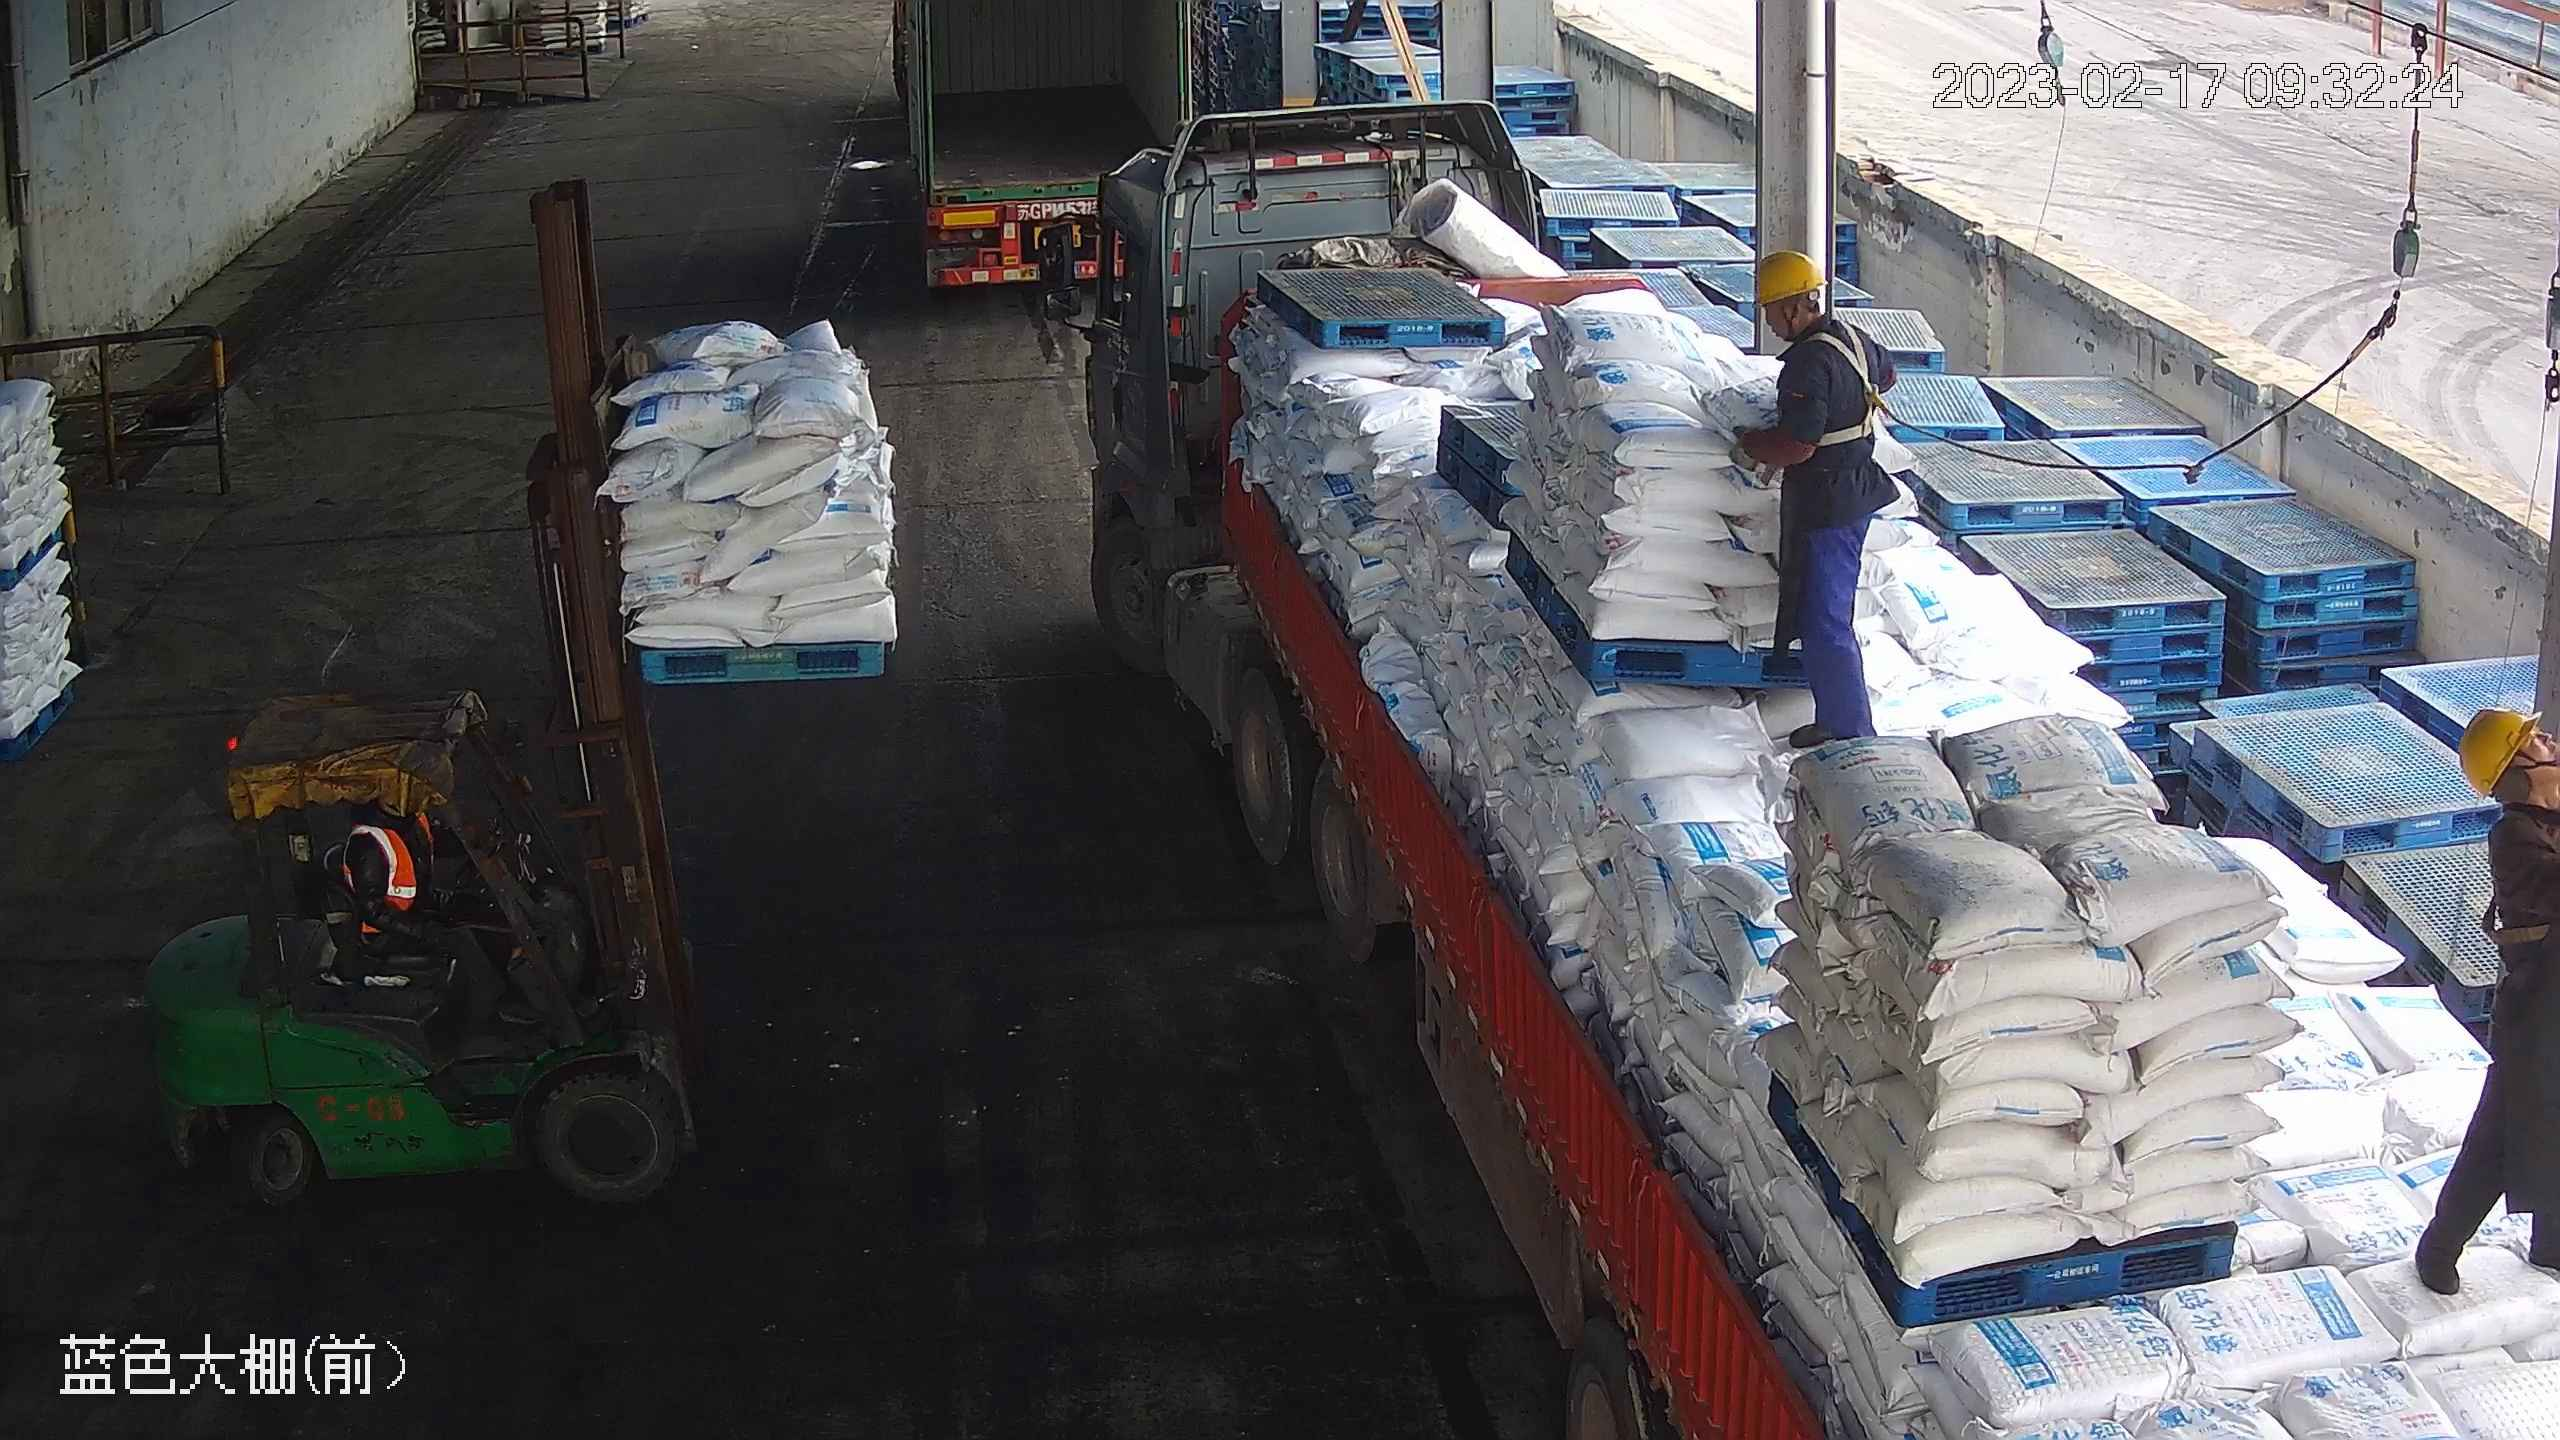belt: (1813, 321, 1902, 443), (2496, 795, 2560, 947)
head: (1747, 249, 1888, 397), (2451, 701, 2559, 867)
helmet: (2450, 700, 2541, 795), (1749, 248, 1830, 305)
people: (2409, 699, 2560, 1306), (1725, 248, 1891, 753), (322, 803, 535, 1028)
truck: (1039, 98, 2560, 1440), (887, 1, 1194, 292)
